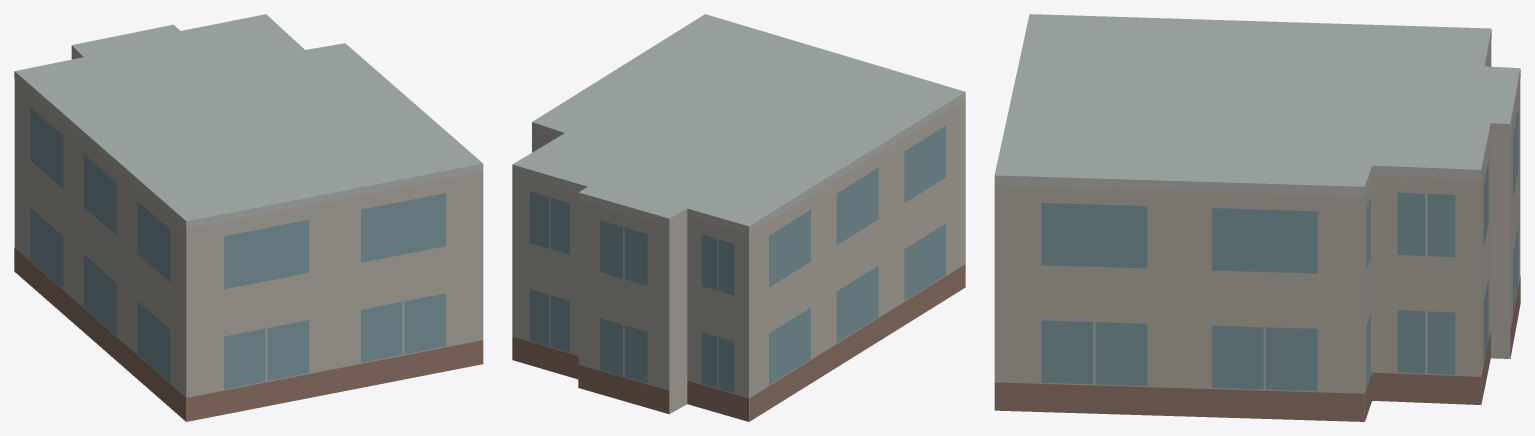
The model's file is survey-upis-32614365.glb.
3 views of the same model, side by side, from view 1: azimuth 30°, elevation 25°; view 2: azimuth 150°, elevation 25°; view 3: azimuth 270°, elevation 25° (orthographic). The views are drawn at different scales.
Visible parts, largest first — view 1: survey-upis-32614365.tmp; view 2: survey-upis-32614365.tmp; view 3: survey-upis-32614365.tmp.
Boxes of the visible parts, left/top/right/bottom form: survey-upis-32614365.tmp: left=14, top=14, right=483, bottom=421; survey-upis-32614365.tmp: left=512, top=14, right=965, bottom=421; survey-upis-32614365.tmp: left=994, top=14, right=1520, bottom=421.
Bounding box in the file's own units: 9.62 × 6.1 × 12.38.
